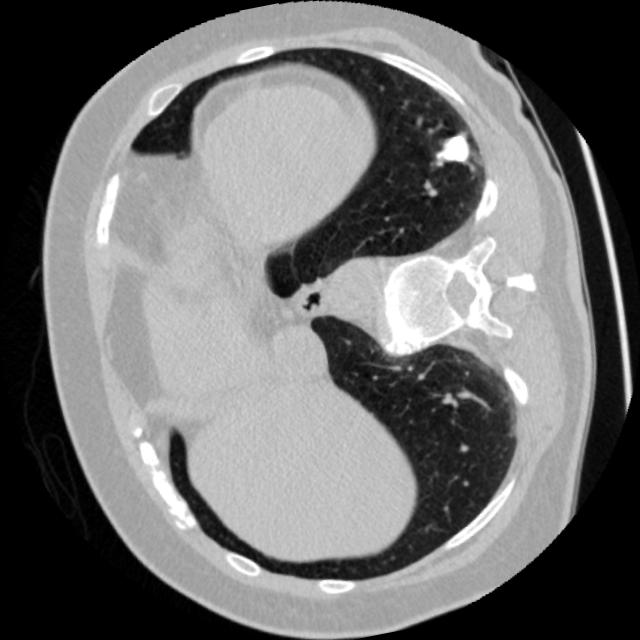nodule: (420, 115, 490, 185)
